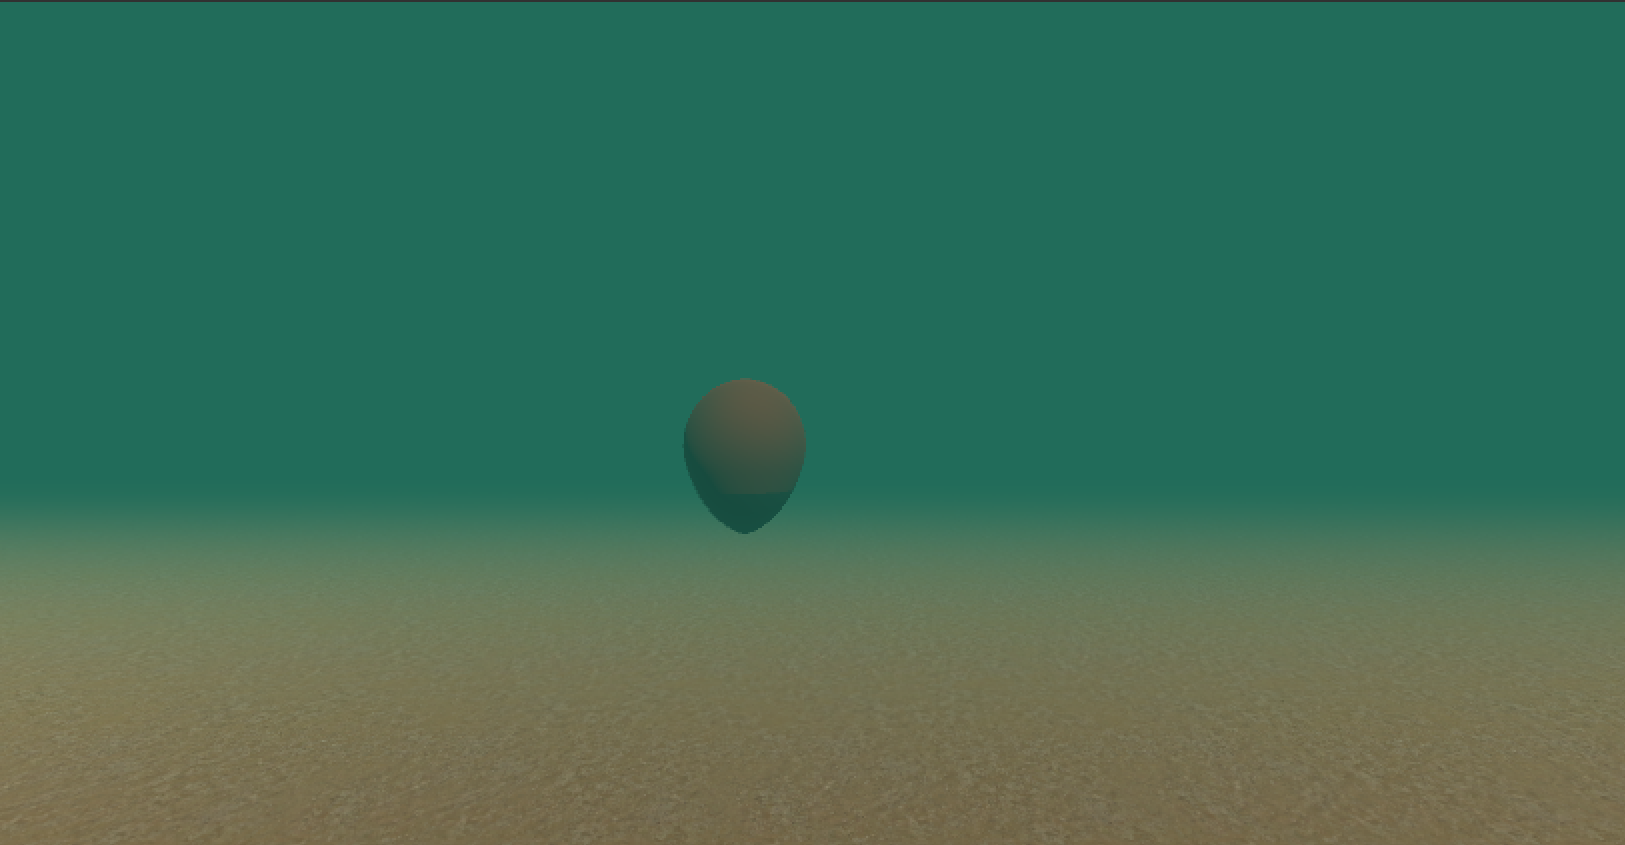orange buoy: (681, 374, 808, 536)
